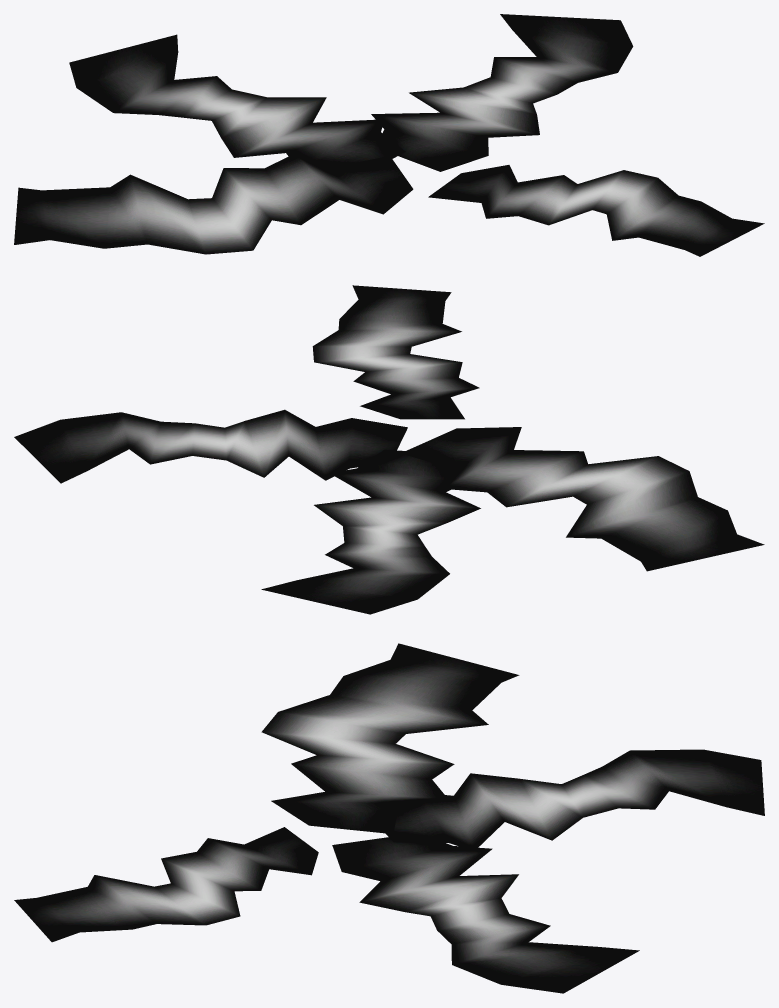
Rendered from vfx_kurp_0623.dae.
3 views of the same model, one above another, from view 1: azimuth 30°, elevation 25°; view 2: azimuth 150°, elevation 25°; view 3: azimuth 270°, elevation 25° (orthographic). The views are drawn at different scales.
Parts seen in each view (by area): view 1: vfx_kurp_0623; view 2: vfx_kurp_0623; view 3: vfx_kurp_0623.
Boxes of the visible parts, x1,y1,x2,y2 form: vfx_kurp_0623: (14,14,764,256); vfx_kurp_0623: (14,285,764,614); vfx_kurp_0623: (14,643,764,993).
Size of the model in its own units: 15.22 by 13.79 by 0.000404.
Materials: 1 (1 with a texture image).
